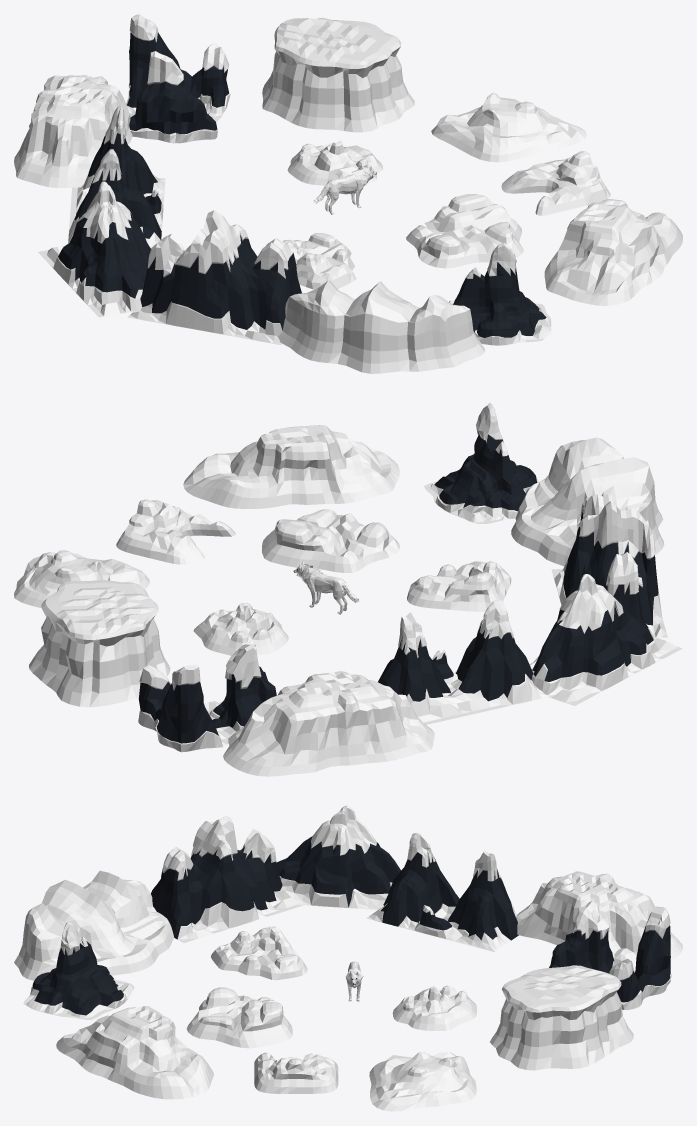
The model's file is arctic.gltf.
3 views of the same model, one above another, from view 1: azimuth 30°, elevation 25°; view 2: azimuth 150°, elevation 25°; view 3: azimuth 270°, elevation 25° (orthographic). The views are drawn at different scales.
Parts seen in each view (by area): view 1: Mountain_winter_001, Plateau_winter_004, Plateau_winter_003, Plateau_winter_002, Mountain_winter_007, Plateau_winter_001, Mountain_winter_003, Hill_winter_001, Hill_winter_002, Mountain_winter_006, Mountain_winter_002, Hill_winter_003 (+3 smaller); view 2: Plateau_winter_001, Plateau_winter_004, Plateau_winter_002, Mountain_winter_002, Mountain_winter_003, Plateau_winter_003, Mountain_winter_007, Mountain_winter_001, Mountain_winter_006, Hill_winter_002, Hill_winter_003, Hill_winter_005 (+3 smaller); view 3: Plateau_winter_004, Mountain_winter_001, Plateau_winter_003, Mountain_winter_002, Plateau_winter_002, Mountain_winter_003, Plateau_winter_001, Mountain_winter_007, Mountain_winter_006, Hill_winter_001, Hill_winter_002, Hill_winter_005 (+2 smaller).
Part boxes in pixels (bbox=[...]): Mountain_winter_001: bbox=[127, 210, 301, 345]; Plateau_winter_004: bbox=[262, 18, 414, 132]; Plateau_winter_003: bbox=[278, 280, 484, 373]; Plateau_winter_002: bbox=[544, 199, 682, 305]; Mountain_winter_007: bbox=[126, 14, 230, 143]; Plateau_winter_001: bbox=[14, 75, 135, 187]; Mountain_winter_003: bbox=[38, 181, 150, 317]; Hill_winter_001: bbox=[431, 92, 586, 162]; Hill_winter_002: bbox=[406, 194, 523, 268]; Mountain_winter_006: bbox=[449, 242, 551, 345]; Mountain_winter_002: bbox=[68, 105, 165, 248]; Hill_winter_003: bbox=[501, 151, 610, 215]; Plateau_winter_001: bbox=[223, 671, 434, 776]; Plateau_winter_004: bbox=[29, 580, 170, 707]; Plateau_winter_002: bbox=[183, 425, 399, 508]; Mountain_winter_002: bbox=[378, 598, 550, 724]; Mountain_winter_003: bbox=[529, 574, 682, 705]; Plateau_winter_003: bbox=[511, 437, 664, 566]; Mountain_winter_007: bbox=[138, 644, 276, 752]; Mountain_winter_001: bbox=[551, 493, 667, 638]; Mountain_winter_006: bbox=[424, 402, 538, 523]; Hill_winter_002: bbox=[262, 509, 399, 572]; Hill_winter_003: bbox=[116, 499, 235, 564]; Hill_winter_005: bbox=[407, 561, 511, 611]; Plateau_winter_004: bbox=[490, 965, 633, 1070]; Mountain_winter_001: bbox=[151, 815, 303, 943]; Plateau_winter_003: bbox=[14, 870, 174, 980]; Mountain_winter_002: bbox=[366, 832, 518, 951]; Plateau_winter_002: bbox=[56, 1006, 213, 1099]; Mountain_winter_003: bbox=[275, 805, 400, 909]; Plateau_winter_001: bbox=[516, 871, 682, 968]; Mountain_winter_007: bbox=[549, 901, 671, 1009]; Mountain_winter_006: bbox=[23, 922, 134, 1020]; Hill_winter_001: bbox=[369, 1052, 476, 1111]; Hill_winter_002: bbox=[186, 987, 292, 1048]; Hill_winter_005: bbox=[211, 926, 307, 980].
Bounding box in the file's own units: 34.47 × 6.06 × 39.69.
5 materials, 5 textured.
